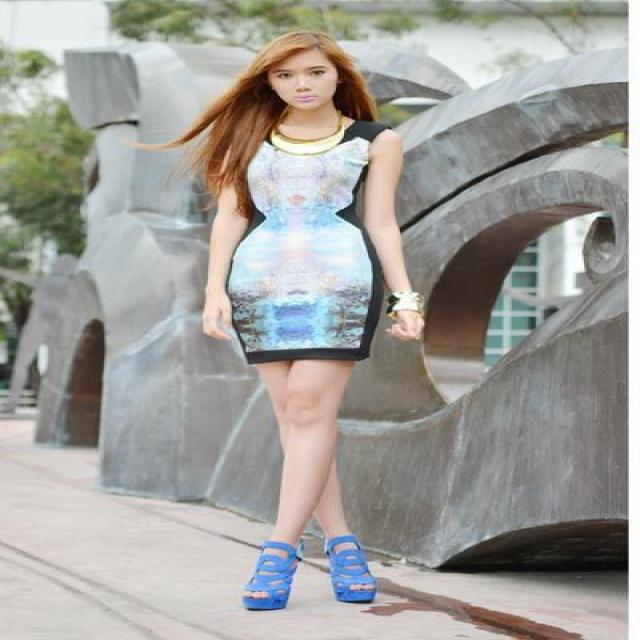dress: (228, 109, 398, 369)
shoe: (243, 525, 379, 610)
